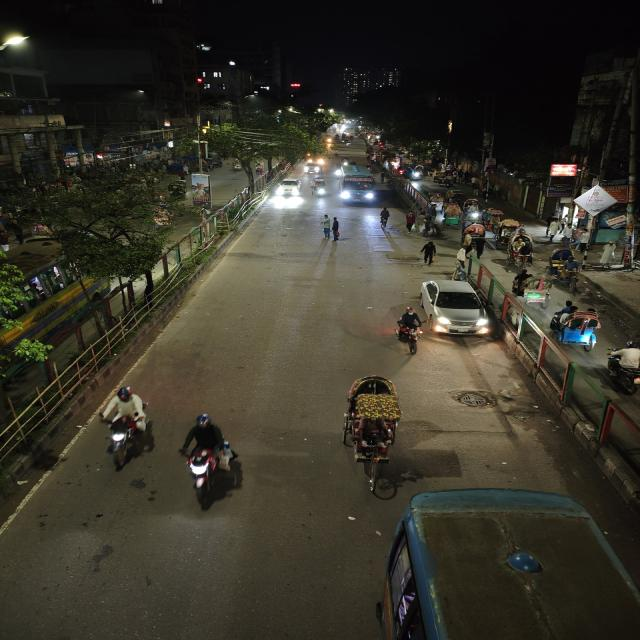bicycle: (376, 206, 394, 232)
bus: (337, 161, 380, 209)
car: (415, 278, 492, 340), (276, 177, 304, 199), (303, 162, 325, 174)
motorcycle: (175, 411, 242, 507), (90, 383, 160, 473), (603, 338, 640, 398), (388, 306, 424, 356)
pedestrian: (508, 232, 536, 268), (317, 213, 344, 243), (463, 228, 488, 260), (417, 240, 440, 268), (450, 260, 470, 282), (403, 209, 419, 234), (419, 214, 430, 236)
rickshaw: (334, 372, 410, 494), (548, 304, 605, 352), (508, 270, 552, 308), (547, 248, 586, 287), (461, 222, 488, 253), (496, 216, 524, 238), (459, 198, 484, 222), (443, 201, 463, 227), (310, 176, 330, 198), (484, 207, 506, 223)
